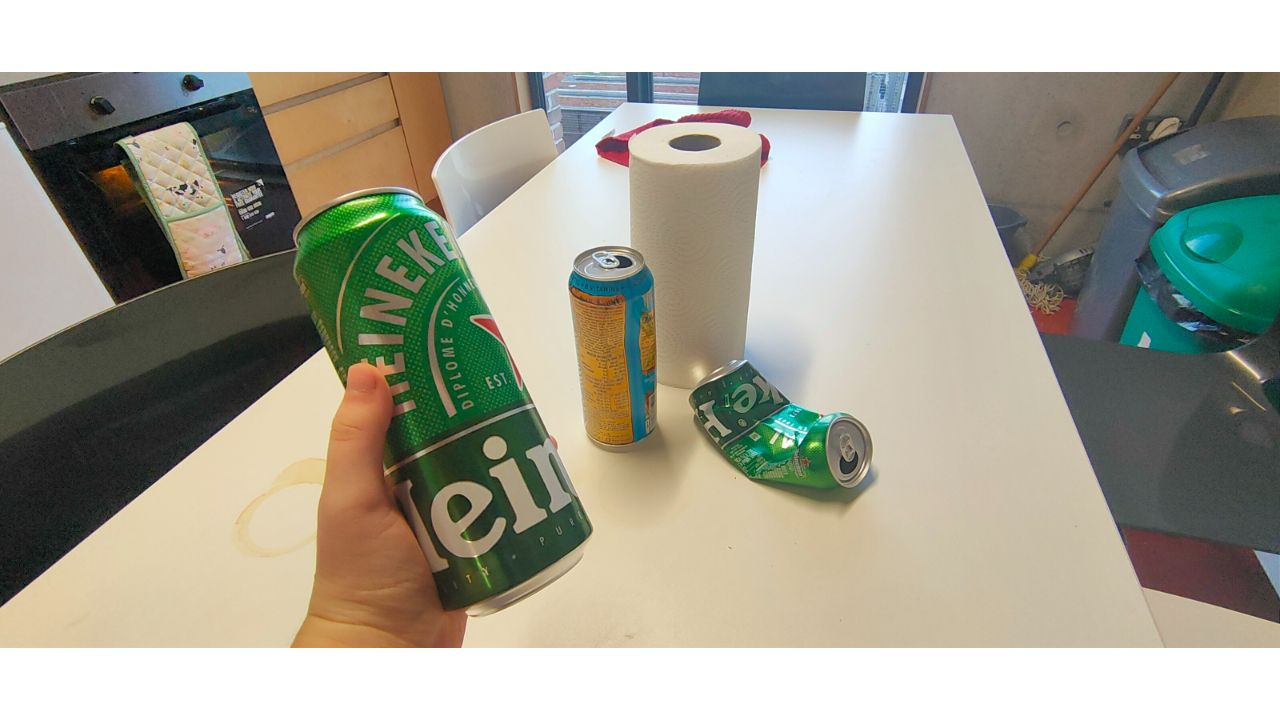Can: (294, 186, 595, 620), (689, 358, 874, 492), (569, 247, 661, 450)
